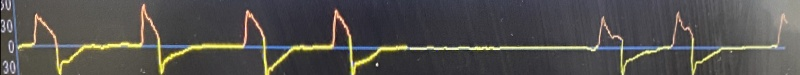normal_flow: (10, 0, 416, 75), (571, 1, 796, 75)
